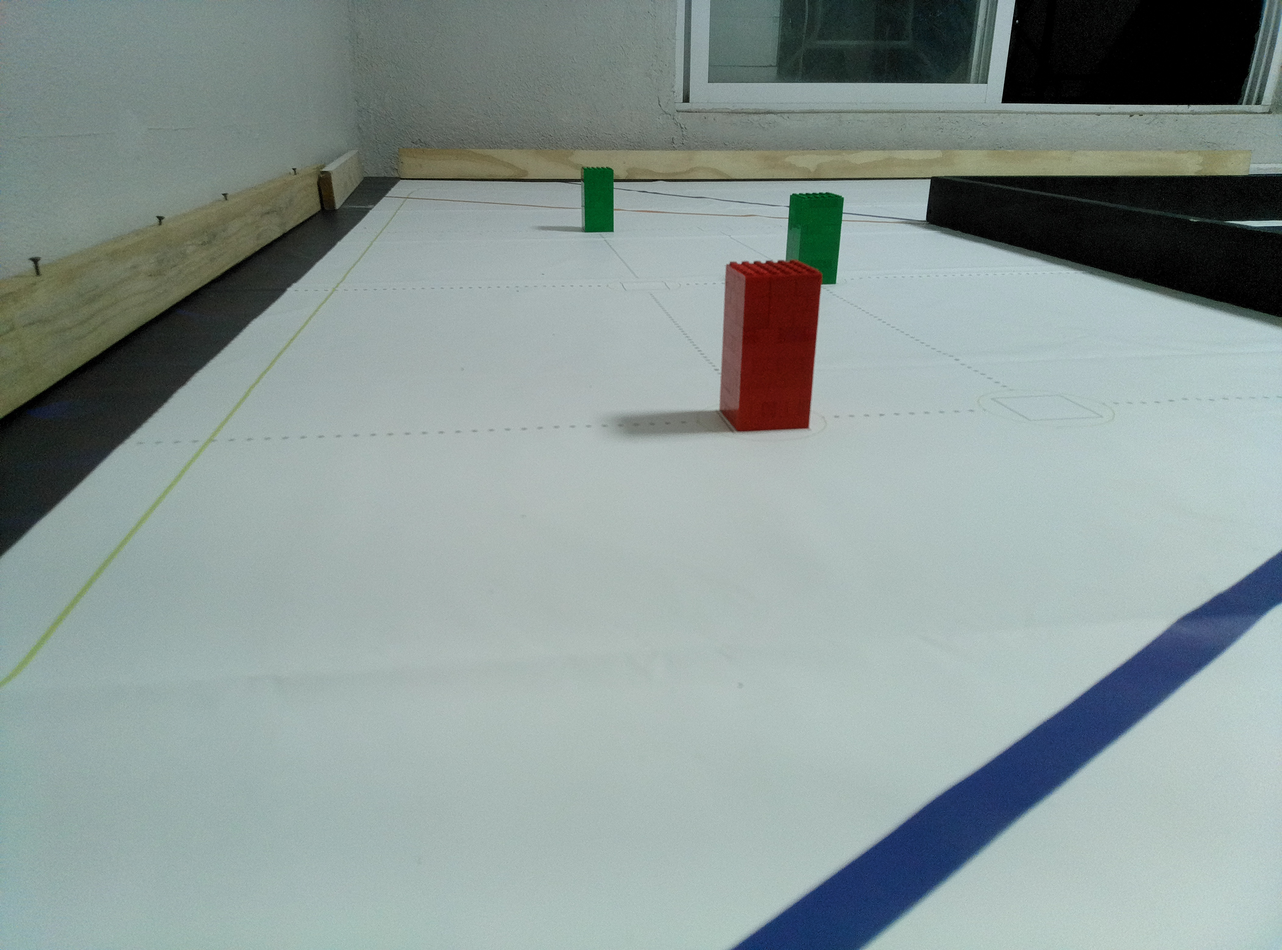greenbox: (785, 192, 844, 284), (580, 166, 614, 233)
redbox: (720, 261, 822, 433)
